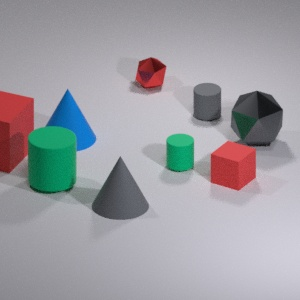lapphuong: (0, 86, 37, 176), (209, 136, 260, 198)
lucgiac: (228, 83, 286, 148), (132, 51, 171, 95)
non: (90, 154, 153, 222), (43, 85, 99, 155)
tru: (22, 126, 83, 194), (159, 127, 199, 175), (192, 85, 225, 127)
